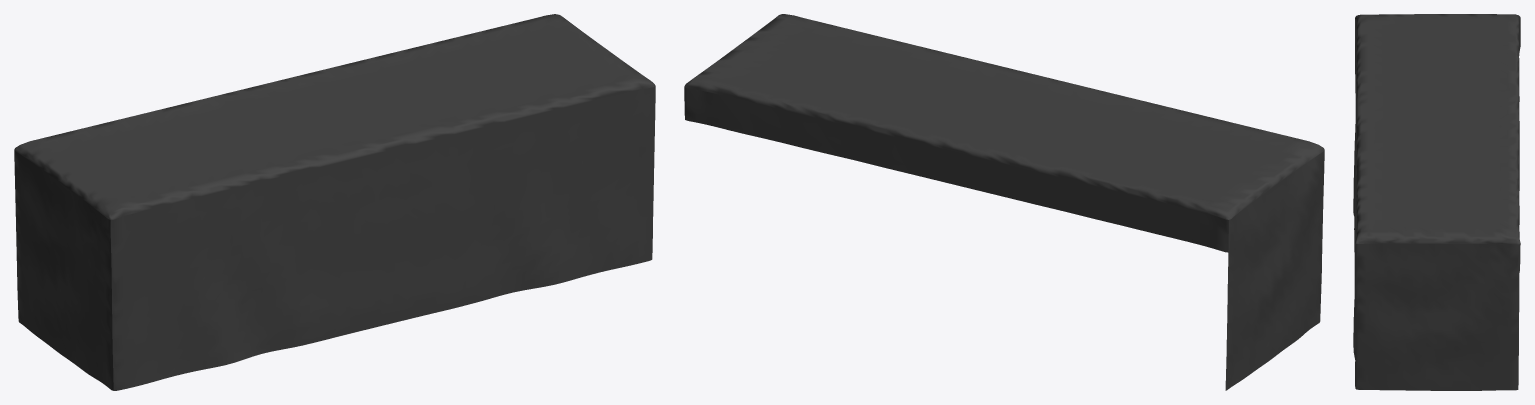
The model's file is fitted-8ft-3.glb.
3 views of the same model, side by side, from view 1: azimuth 30°, elevation 25°; view 2: azimuth 150°, elevation 25°; view 3: azimuth 270°, elevation 25° (orthographic). The views are drawn at different scales.
Parts seen in each view (by area): view 1: geometry_0; view 2: geometry_0; view 3: geometry_0.
Part boxes in pixels (<box>): geometry_0: <box>14,14,655,390</box>; geometry_0: <box>684,14,1324,390</box>; geometry_0: <box>1353,14,1520,390</box>.
Bounding box in the file's own units: 2.45 × 0.7685 × 0.7589.
1 material, 1 textured.
